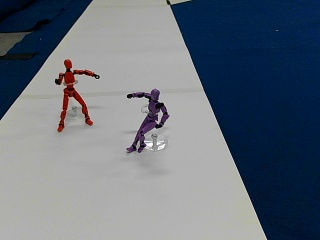pedestrian: (55, 58, 99, 130), (126, 89, 168, 153)
